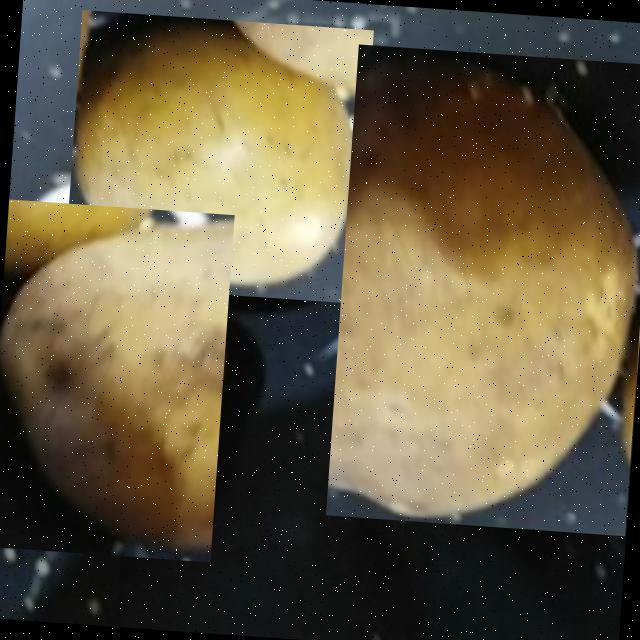Damaged potato: (324, 43, 640, 535), (0, 198, 233, 561)
Potato: (62, 9, 372, 302)
